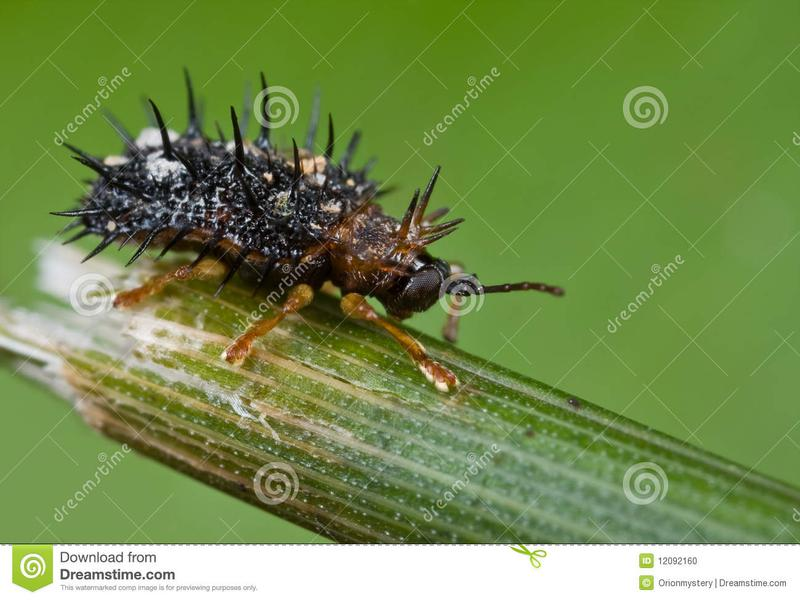Spiny_beetle: (49, 116, 464, 360)
